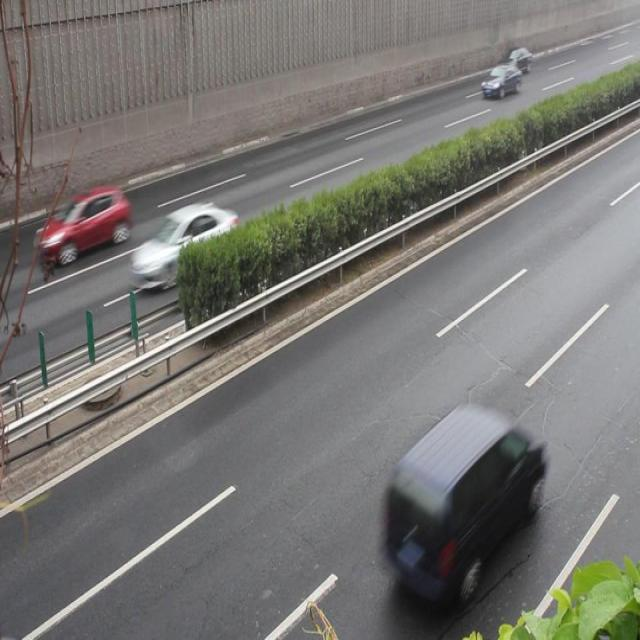car: (130, 204, 239, 291), (39, 187, 128, 267), (480, 64, 520, 100)
truck: (381, 403, 540, 590)
